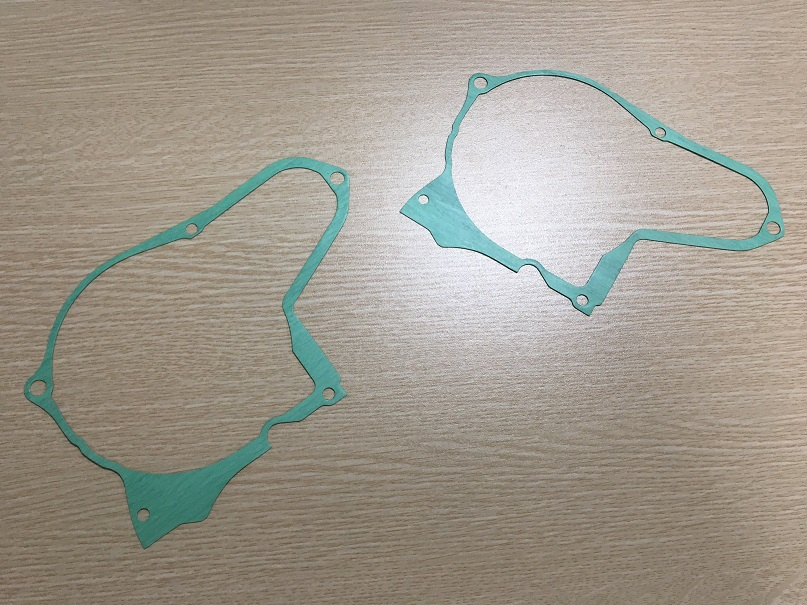type1: (18, 152, 363, 550), (394, 63, 793, 319)
